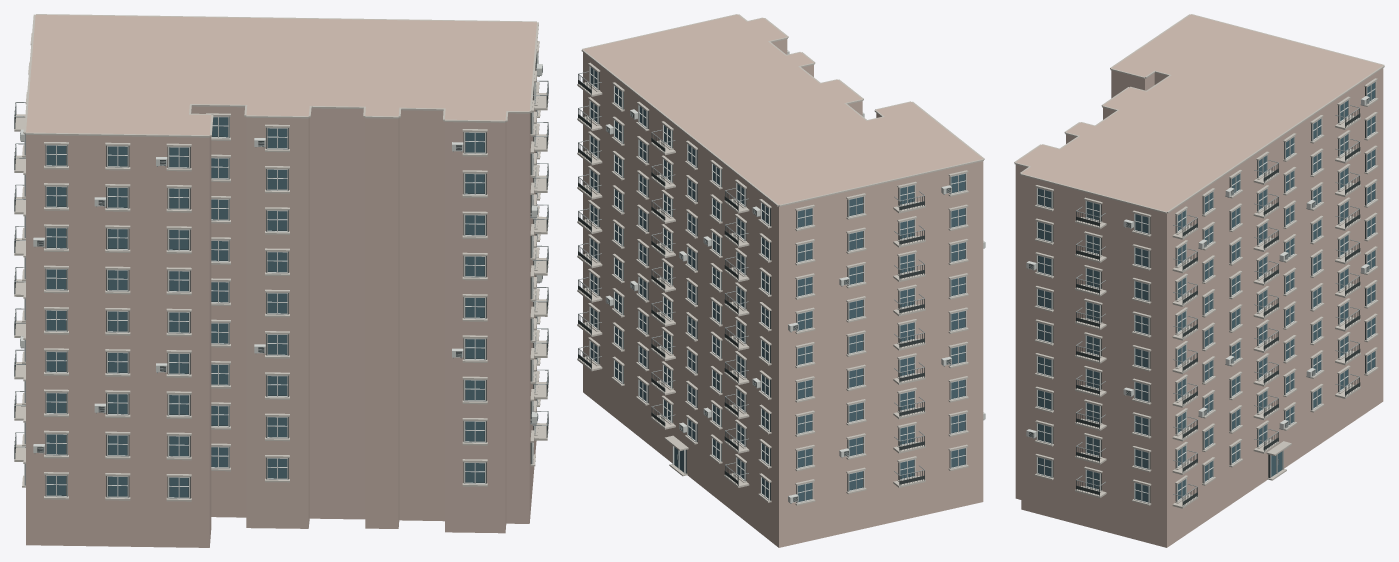
Rendered from completion-56015546.glb.
3 renders of one model, left to right at view 1: azimuth 30°, elevation 25°; view 2: azimuth 150°, elevation 25°; view 3: azimuth 270°, elevation 25°, orthographic. The views are drawn at different scales.
Visible parts, largest first — view 1: 56015546 Block 56015546 mineral plaster, 56015546 glass, 56015546 stone, 56015546 frame, 56015546 dark, 56015546 steel; view 2: 56015546 Block 56015546 mineral plaster, 56015546 stone, 56015546 glass, 56015546 frame, 56015546 dark, 56015546 steel; view 3: 56015546 Block 56015546 mineral plaster, 56015546 stone, 56015546 frame, 56015546 glass, 56015546 dark, 56015546 steel.
Boxes of the visible parts, x1,y1,x2,y2 form: 56015546 Block 56015546 mineral plaster: (26,15,536,547); 56015546 glass: (47,117,484,497); 56015546 stone: (14,14,548,501); 56015546 frame: (20,53,542,498); 56015546 dark: (14,55,548,498); 56015546 steel: (14,66,548,454); 56015546 Block 56015546 mineral plaster: (583,14,983,547); 56015546 stone: (577,14,984,505); 56015546 glass: (590,67,965,501); 56015546 frame: (589,50,985,503); 56015546 dark: (578,72,965,502); 56015546 steel: (578,71,984,503); 56015546 Block 56015546 mineral plaster: (1015,14,1383,547); 56015546 stone: (1014,14,1384,508); 56015546 frame: (1026,81,1376,503); 56015546 glass: (1038,82,1374,501); 56015546 dark: (1029,87,1373,506); 56015546 steel: (1027,98,1369,496).
Bounding box in the file's own units: 40.51 × 32 × 31.97.
